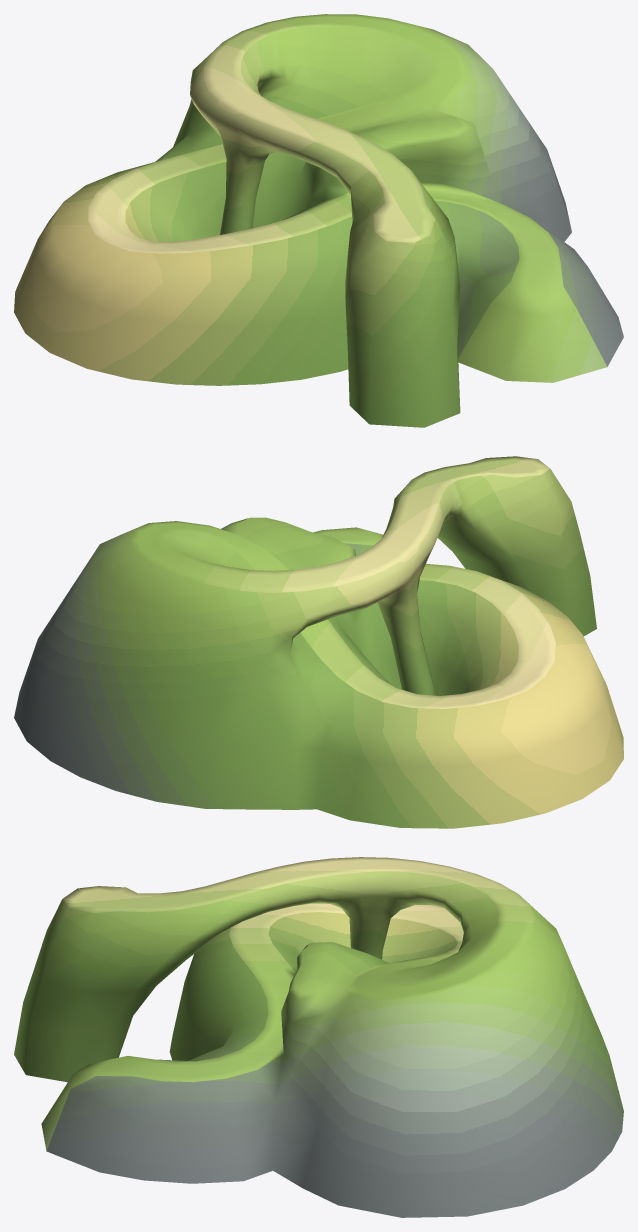
File: model_island_09.fbx
3 renders of one model, top to bottom at view 1: azimuth 30°, elevation 25°; view 2: azimuth 150°, elevation 25°; view 3: azimuth 270°, elevation 25°, orthographic.
Parts seen in each view (by area): view 1: island_09_geo; view 2: island_09_geo; view 3: island_09_geo.
Part boxes in pixels (x1=…): island_09_geo: x1=14, y1=14, x2=623, y2=427; island_09_geo: x1=14, y1=456, x2=623, y2=828; island_09_geo: x1=14, y1=857, x2=623, y2=1217.
Bounding box in the file's own units: 497 × 171 × 489.
